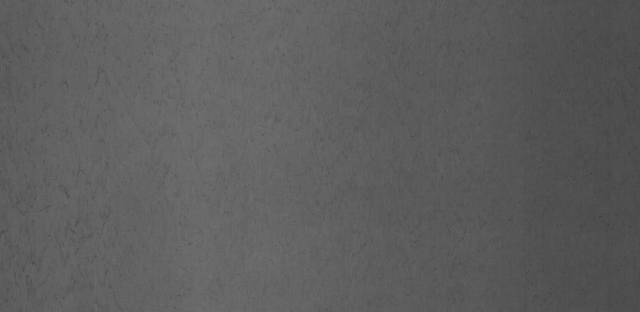silk_spot: (33, 54, 181, 262)
